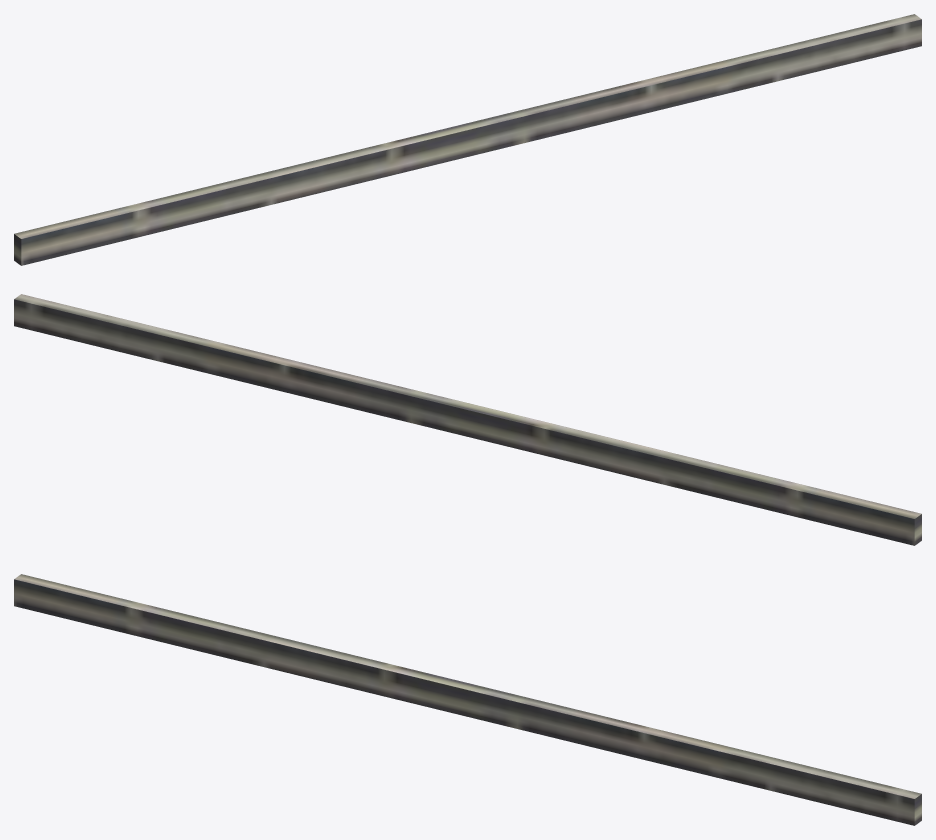
Rendered from WallNorthSouth.fbx.
The picture shows the model from 3 angles, top to bottom: view 1: azimuth 30°, elevation 25°; view 2: azimuth 150°, elevation 25°; view 3: azimuth 330°, elevation 25°; orthographic projection.
Visible parts, largest first — view 1: wall north; view 2: wall north; view 3: wall north.
Boxes of the visible parts, left/top/right/bottom form: wall north: left=14, top=14, right=921, bottom=265; wall north: left=14, top=294, right=921, bottom=545; wall north: left=14, top=574, right=921, bottom=825.
Bounding box in the file's own units: 69279 × 1971 × 968.
